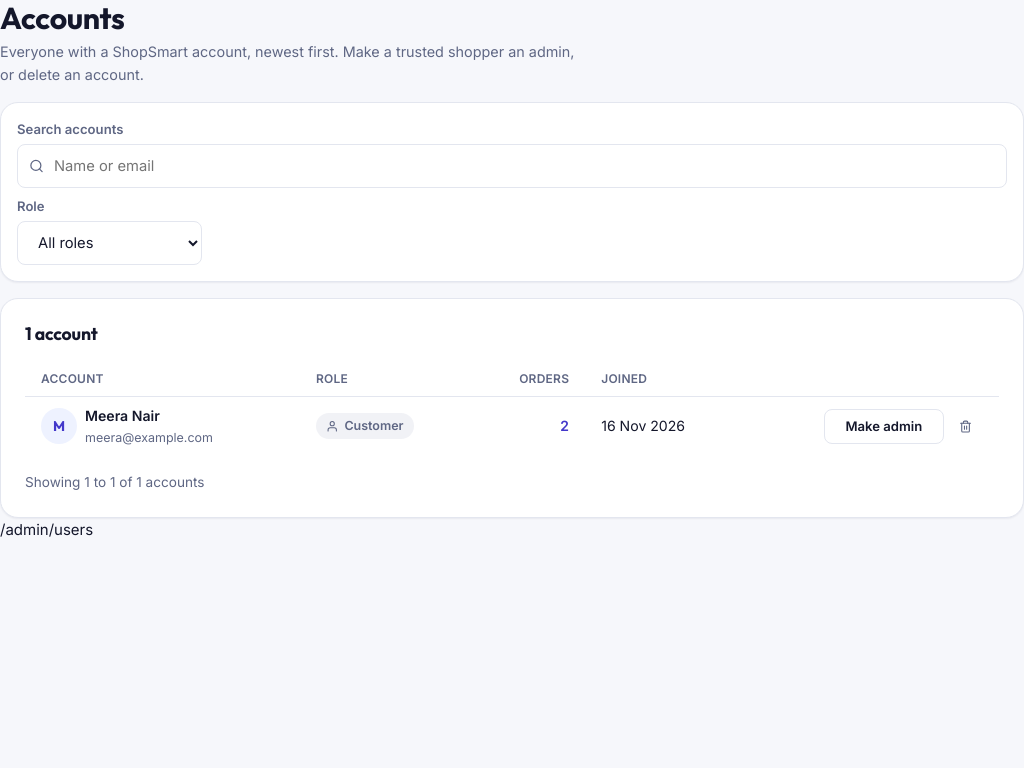
Test: AdminUsers › shows the SELF_DELETE message in the dialog and keeps the row
Expected: the text "meera@example.com" is shown, x1=85 y1=428 x2=213 y2=448
Click the 2nd button at (965, 426), box x1=948 y1=409 x2=983 y2=444
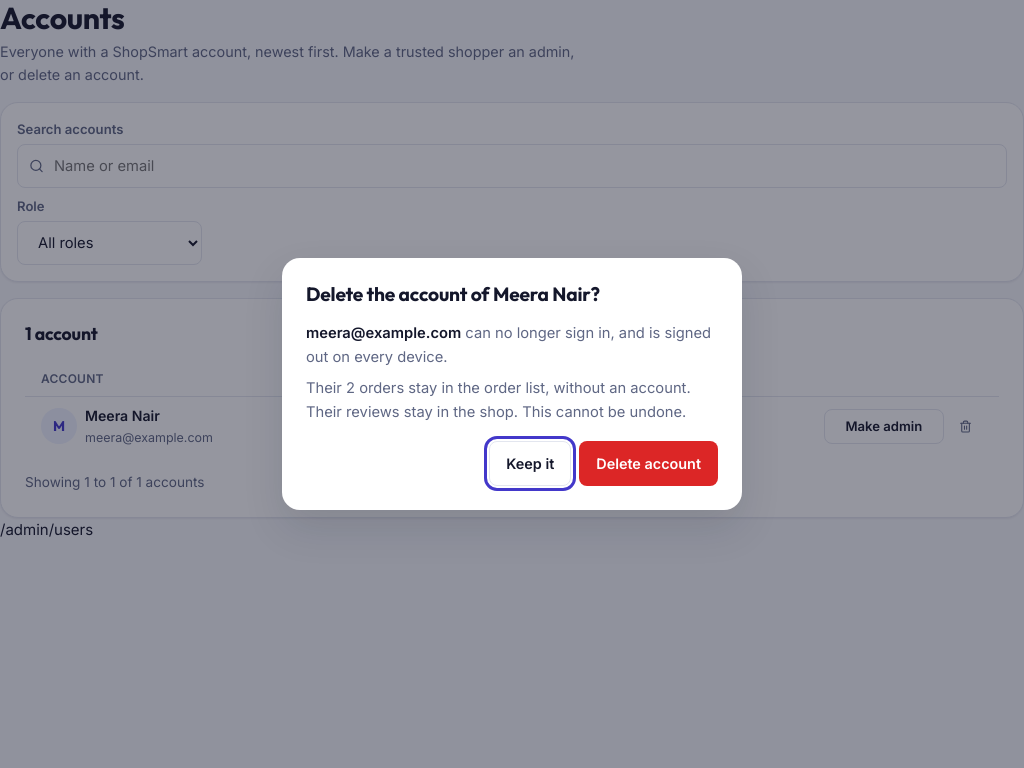
Click the button "Delete account" at (649, 463), box x1=579 y1=441 x2=718 y2=486
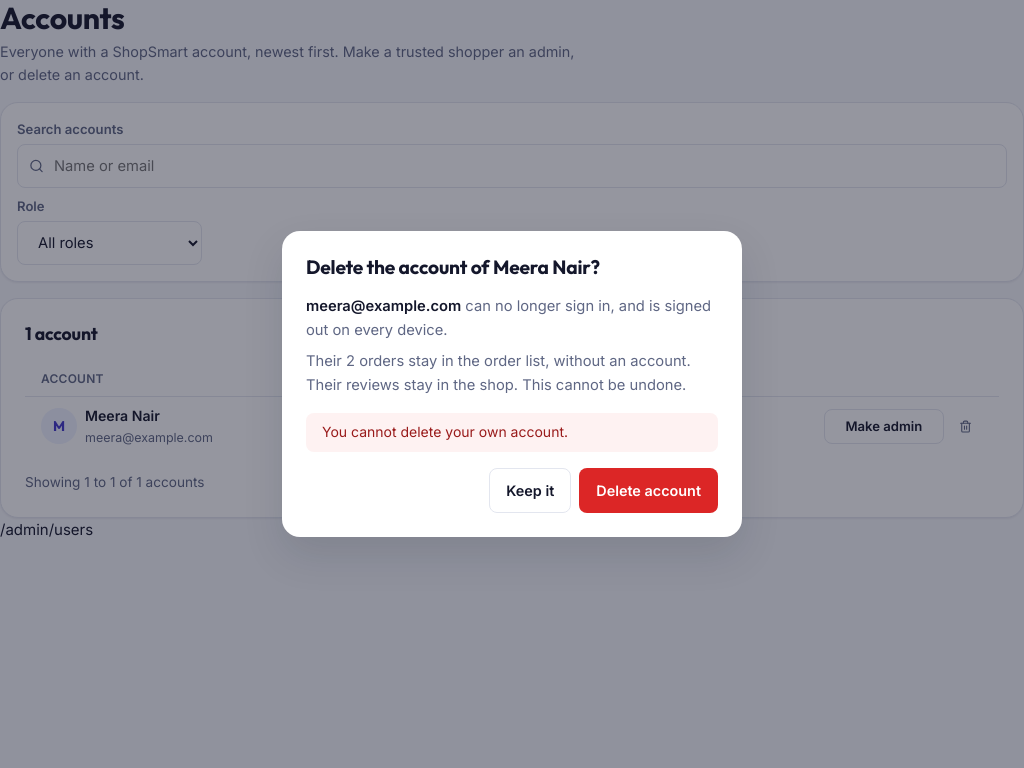
Expected: the message reads "You cannot delete your own account.", x1=322 y1=423 x2=568 y2=440
